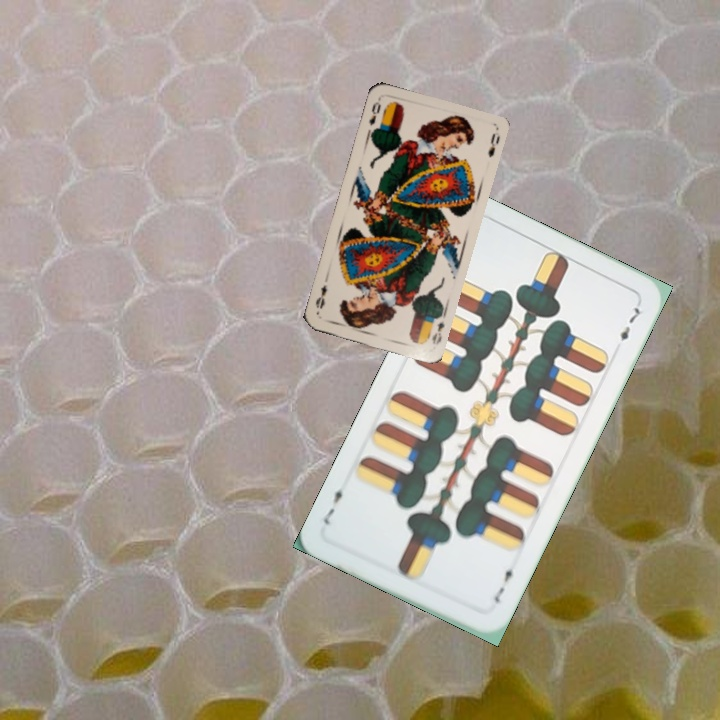E7: (490, 560, 519, 606)
EO: (424, 310, 448, 347), (365, 98, 383, 128)
